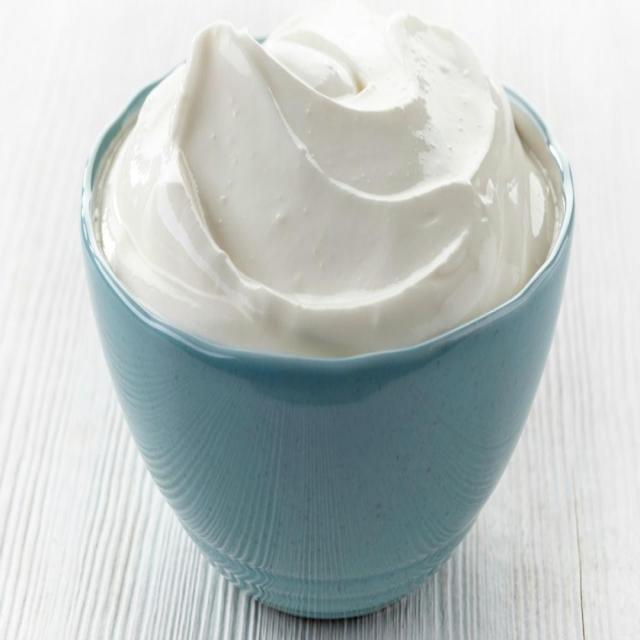yogurt: (88, 15, 574, 365)
